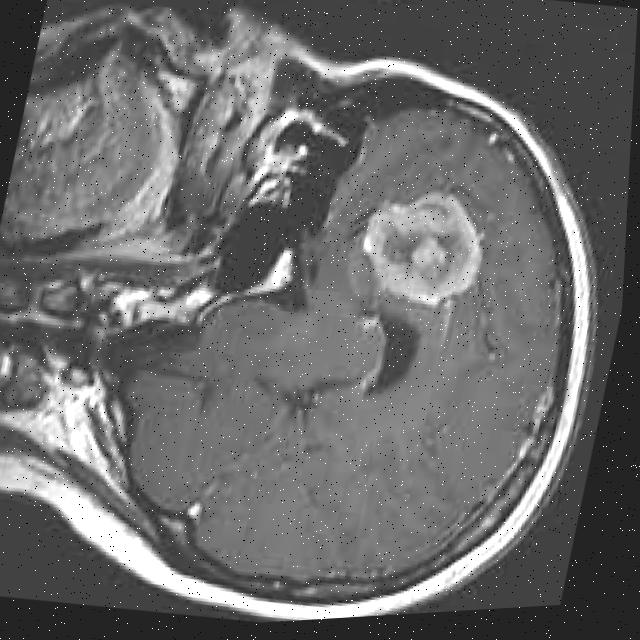Meningioma: (348, 175, 497, 316)
